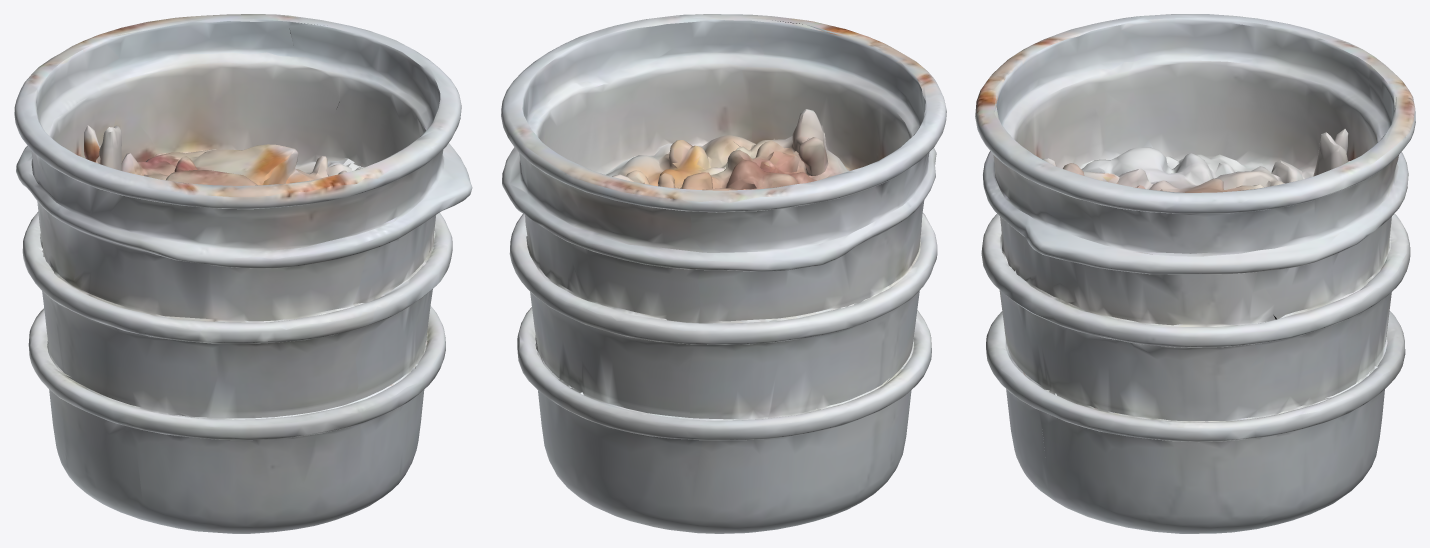
File: meat-tub.glb
3 views of the same model, side by side, from view 1: azimuth 30°, elevation 25°; view 2: azimuth 150°, elevation 25°; view 3: azimuth 270°, elevation 25° (orthographic).
Parts seen in each view (by area): view 1: cowninja-meat-tub; view 2: cowninja-meat-tub; view 3: cowninja-meat-tub.
Boxes of the visible parts, bbox=[...] form: cowninja-meat-tub: bbox=[14, 14, 472, 533]; cowninja-meat-tub: bbox=[501, 14, 946, 533]; cowninja-meat-tub: bbox=[975, 14, 1415, 533].
Bounding box in the file's own units: 0.6001 × 0.5602 × 0.5972.
1 material, 1 textured.
